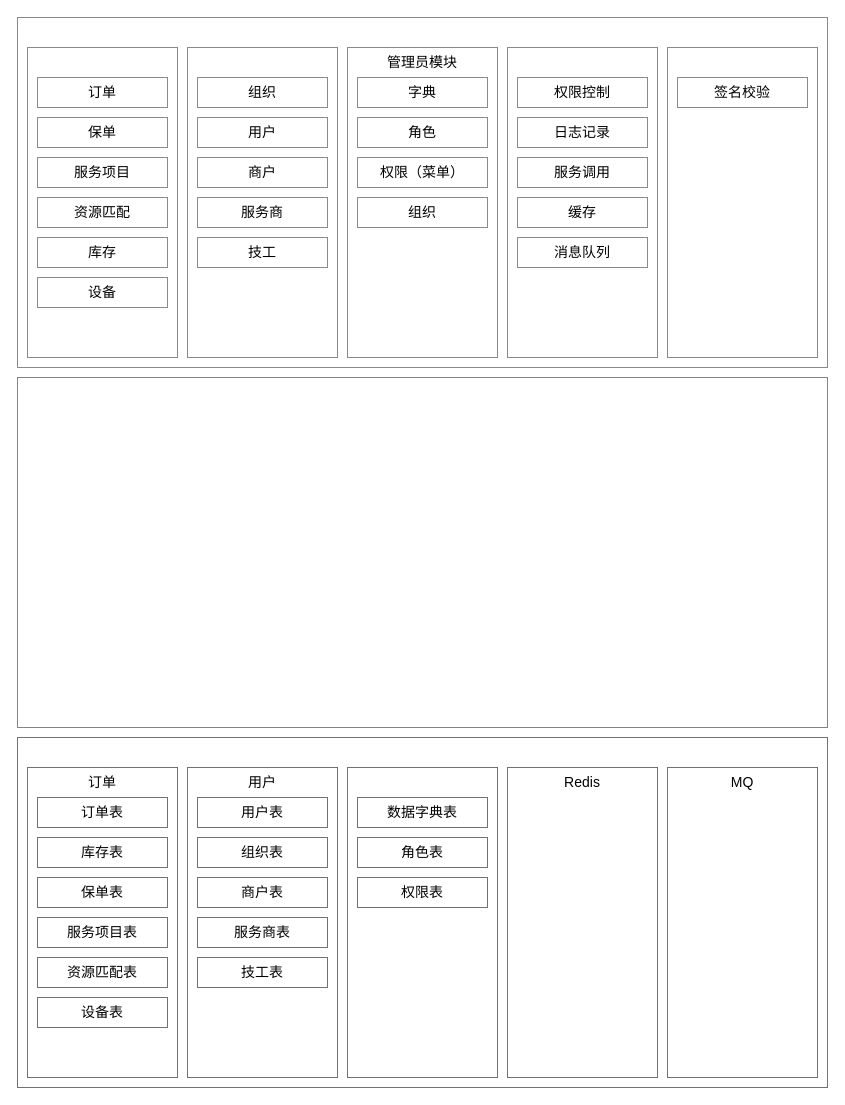
The diagram is 845 pixels wide and 1105 high, and some of its shapes have lost their labels. Each missing label, with the box of its shape:
DAO: (16, 376, 828, 728)
Database: (16, 736, 828, 1088)
OpenAPI: (666, 46, 818, 358)
Service: (16, 16, 828, 368)
公共模块: (506, 46, 658, 358)
用户模块: (186, 46, 338, 358)
管理员: (346, 766, 498, 1078)
订单模块: (26, 46, 178, 358)
